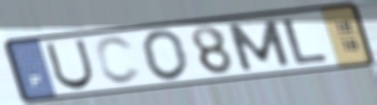8: (189, 25, 235, 76)
C: (92, 35, 145, 87)
L: (281, 17, 332, 66)
M: (223, 18, 294, 73)
O: (139, 28, 192, 83)
U: (43, 38, 97, 92)
